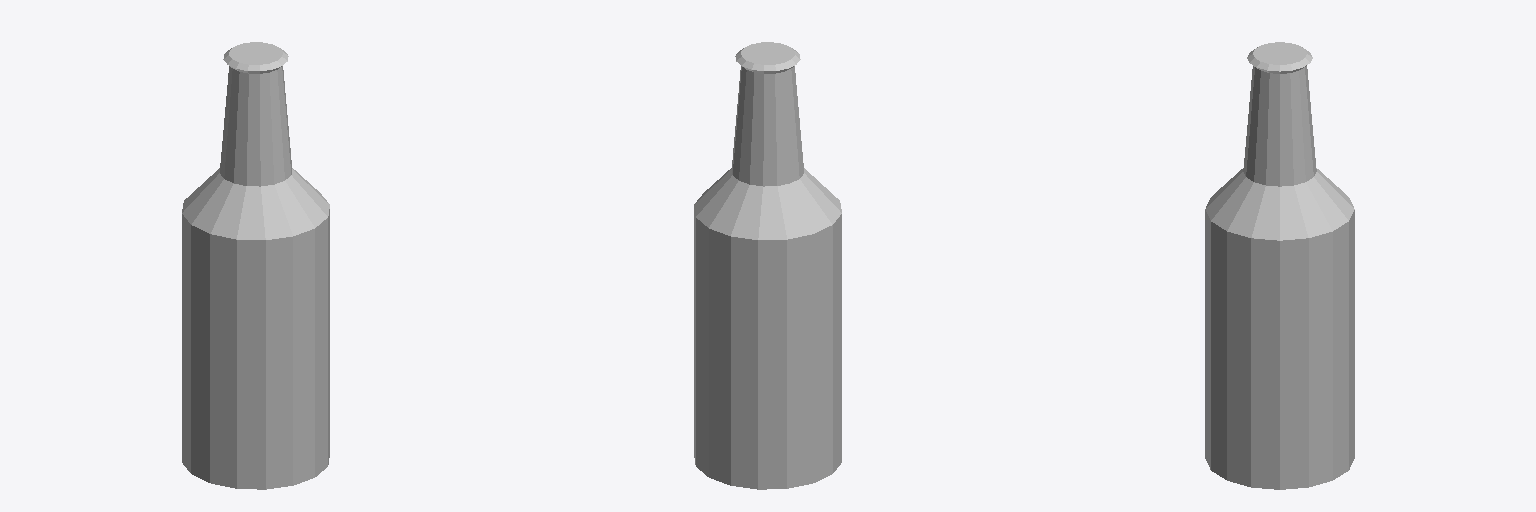
File: bottle_beer.obj
The picture shows the model from 3 angles: view 1: azimuth 30°, elevation 25°; view 2: azimuth 150°, elevation 25°; view 3: azimuth 270°, elevation 25°; orthographic projection.
Size of the model in its own units: 0.4001 by 1.2 by 0.4001.